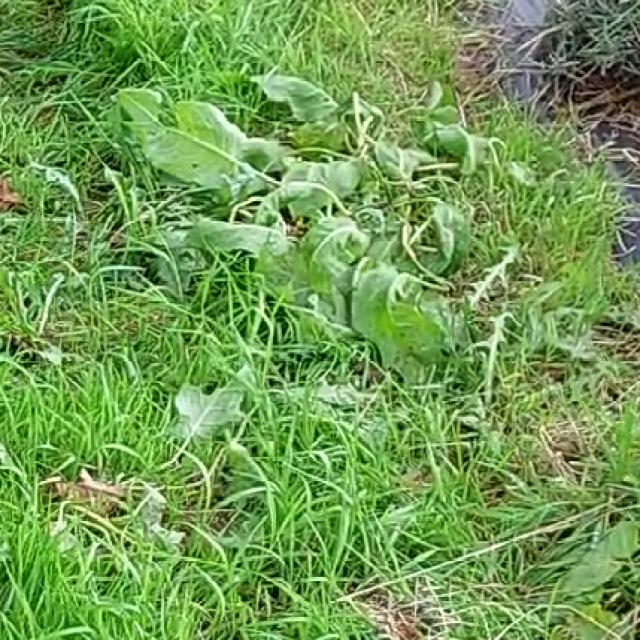organic waste: (95, 48, 564, 412)
